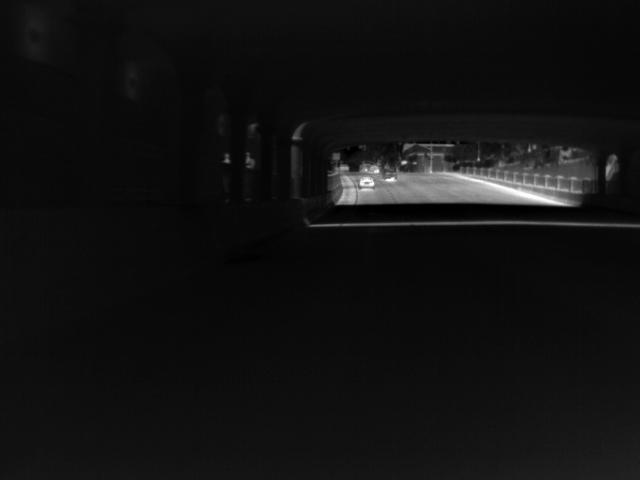car: (357, 174, 375, 188), (382, 169, 399, 183)
person: (244, 151, 256, 171), (219, 151, 232, 165)
